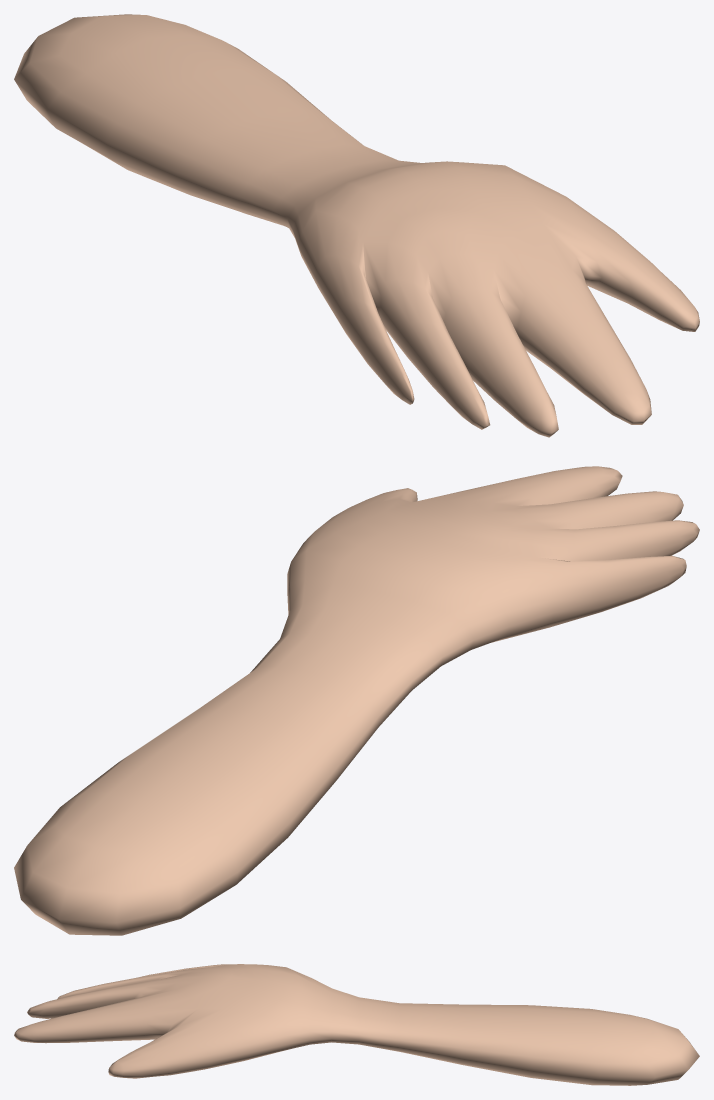
File: Hand.fbx
3 views of the same model, one above another, from view 1: azimuth 30°, elevation 25°; view 2: azimuth 150°, elevation 25°; view 3: azimuth 270°, elevation 25° (orthographic). The views are drawn at different scales.
Visible parts, largest first — view 1: pCube1; view 2: pCube1; view 3: pCube1.
Boxes of the visible parts, box(x1,y1,x2,y2) form: pCube1: box(14, 14, 699, 437); pCube1: box(14, 466, 699, 935); pCube1: box(14, 964, 699, 1085).
Size of the model in its own units: 1.2 by 0.5969 by 3.95.
